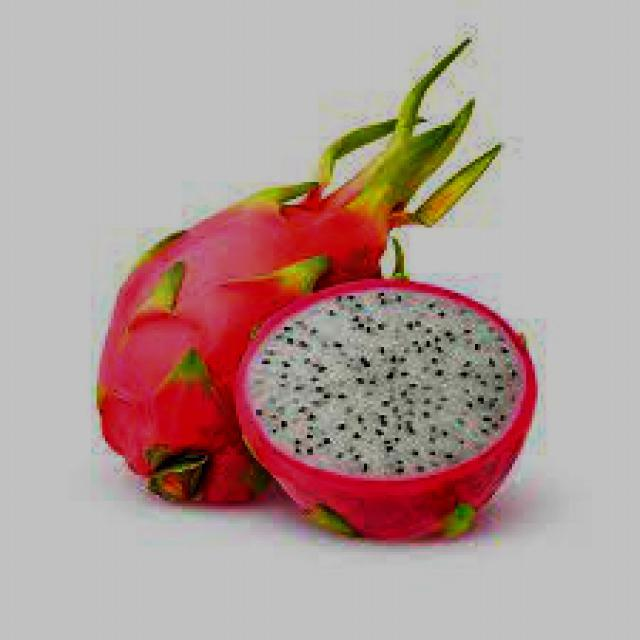trang: (92, 36, 506, 504), (236, 279, 540, 544)
